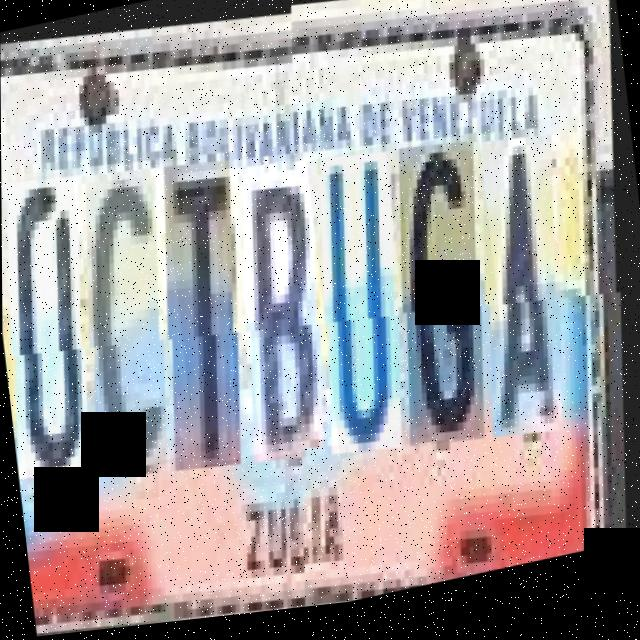0: (1, 165, 116, 485)
A: (467, 132, 589, 452)
B: (229, 157, 349, 469)
C: (72, 157, 194, 478)
G: (384, 140, 511, 461)
T: (149, 150, 268, 477)
U: (306, 149, 429, 469)
